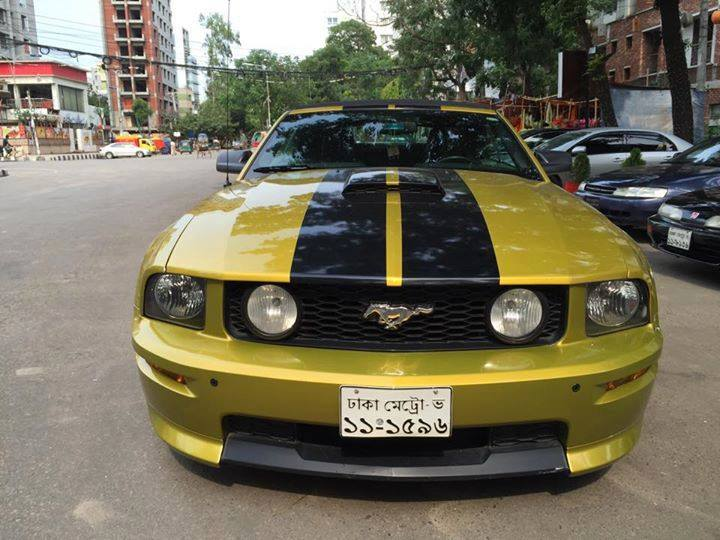registration_plate: (338, 385, 451, 438)
